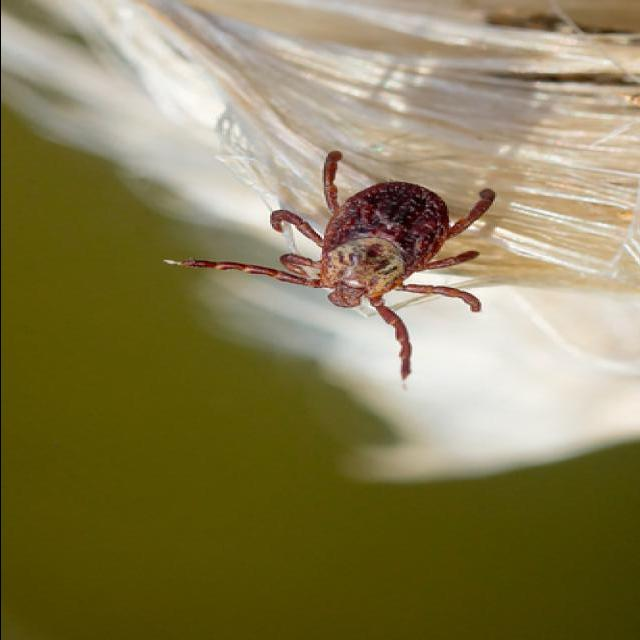Dermacentor Reticulatus-F: (169, 151, 496, 384)
